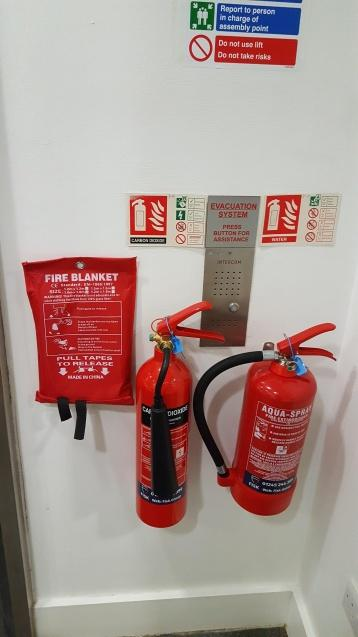APAR: (227, 322, 338, 514), (135, 298, 210, 526)
